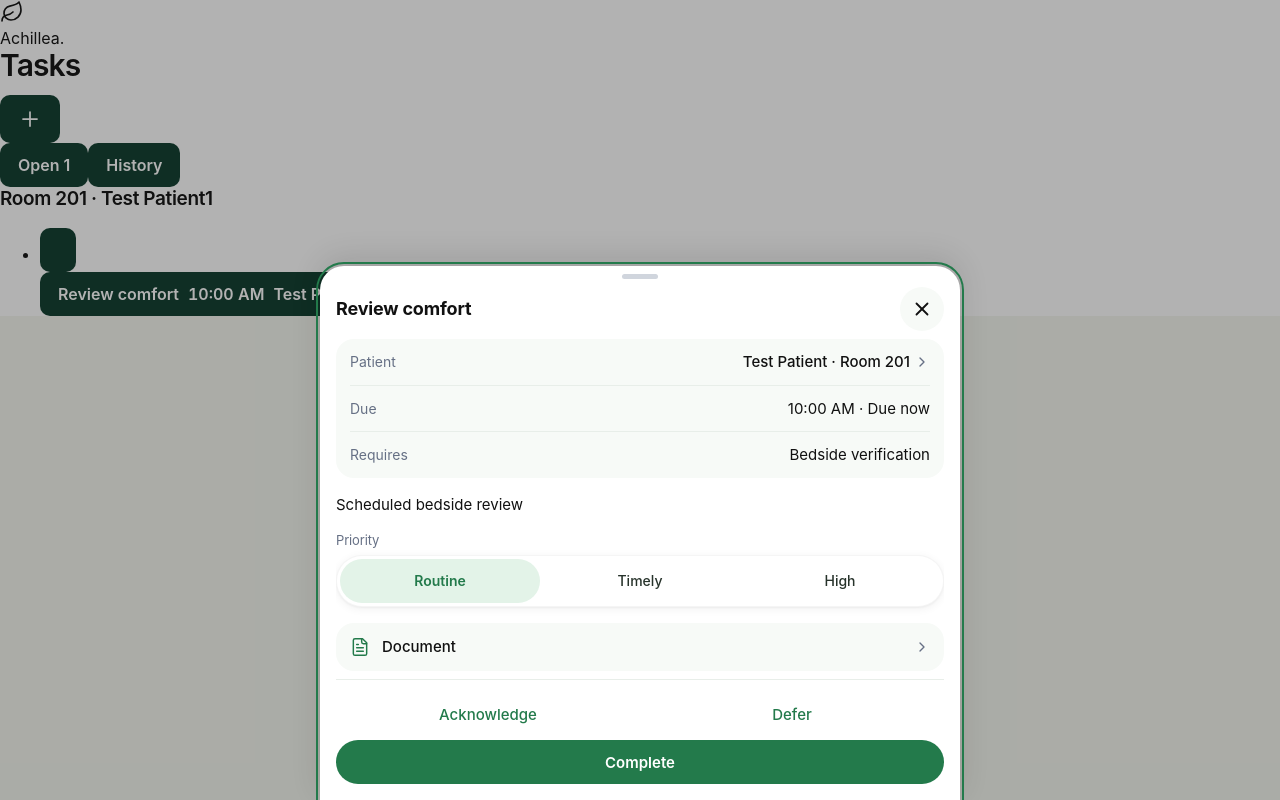
Test case: opens the original task from a handoff URL and closes without reopening it
Check: the dialog "Review comfort" is shown, box [320,266,960,799]
Click the button named "Close".
click(922, 309)  # box [900,287,944,331]
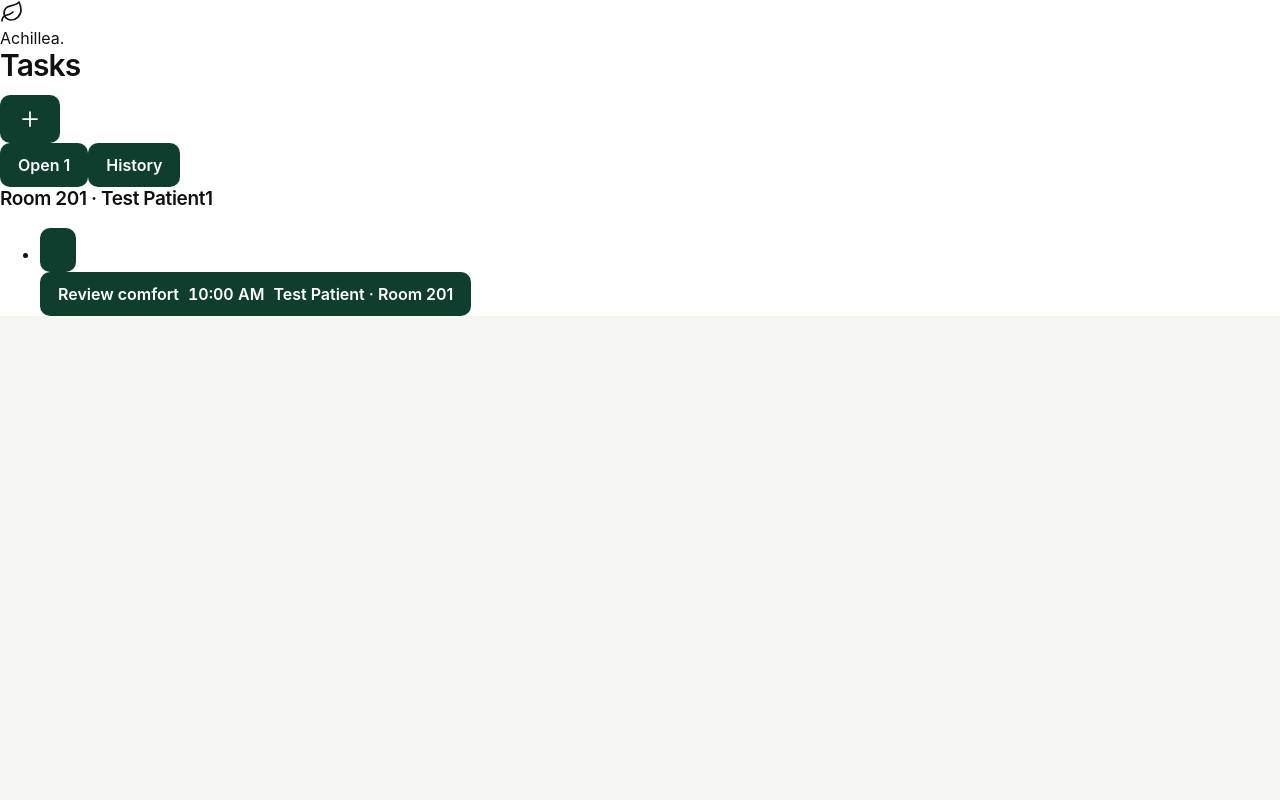
Check: the dialog is gone
